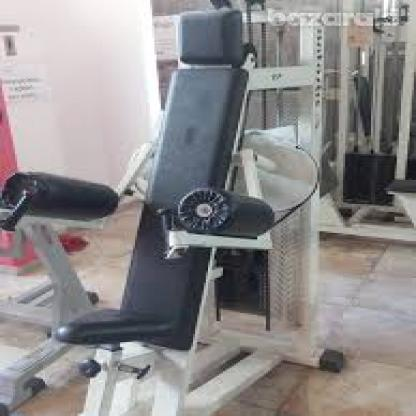lateral raises machine: (0, 62, 333, 416)
